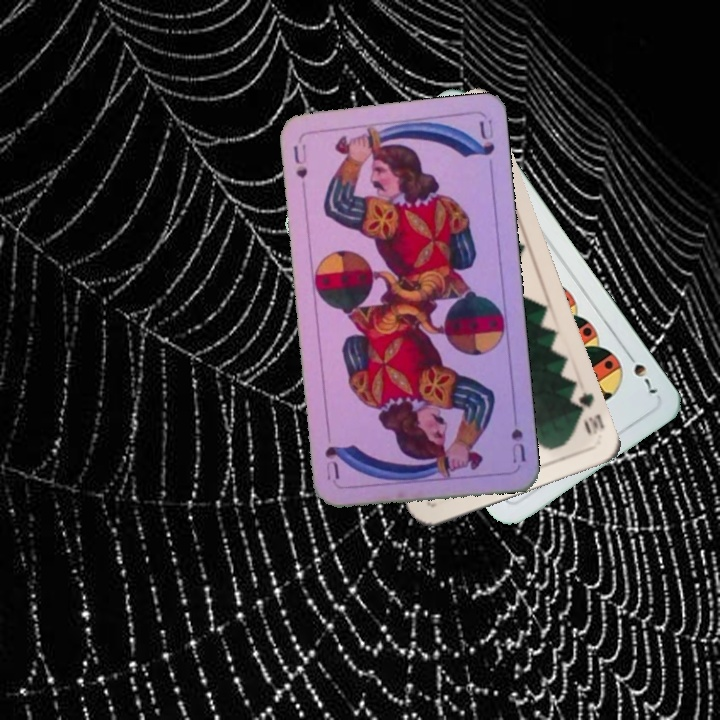G10: (567, 385, 607, 437)
S7: (621, 347, 661, 397)
SU: (289, 140, 310, 194), (507, 424, 528, 466)
